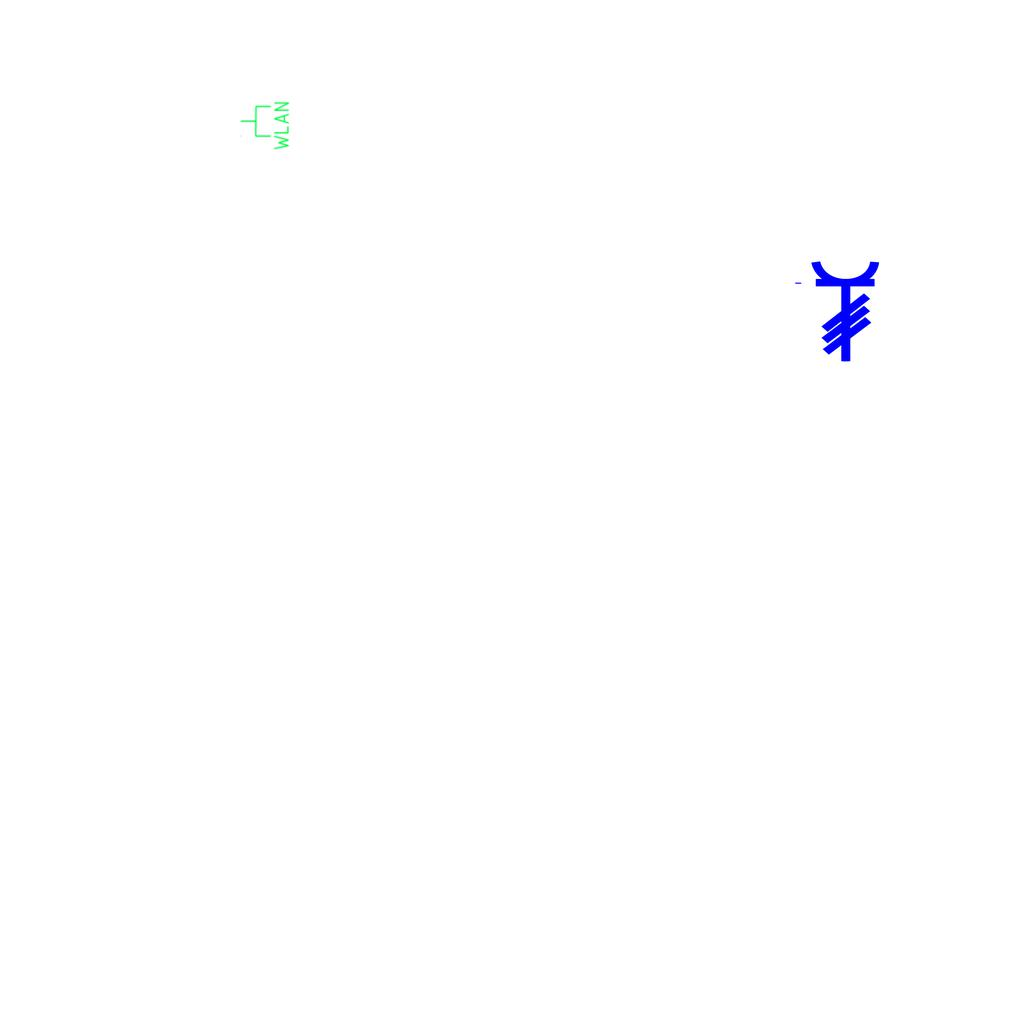CEE_Drehstrom_Steckdose_16_32_A: (792, 259, 882, 363)
WLAN: (239, 100, 291, 152)
